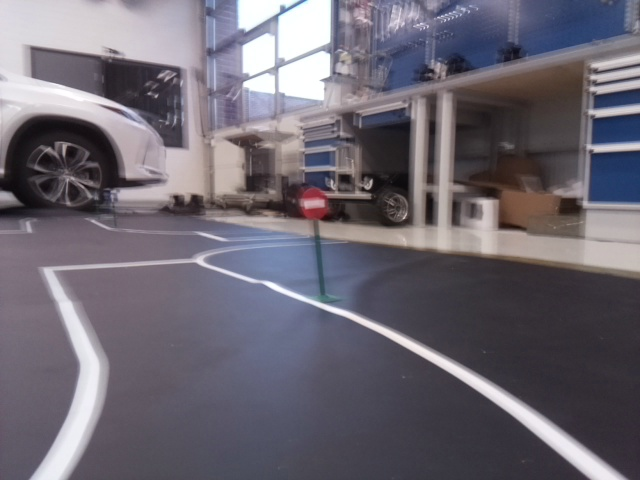NoEntry: (298, 185, 327, 219)
